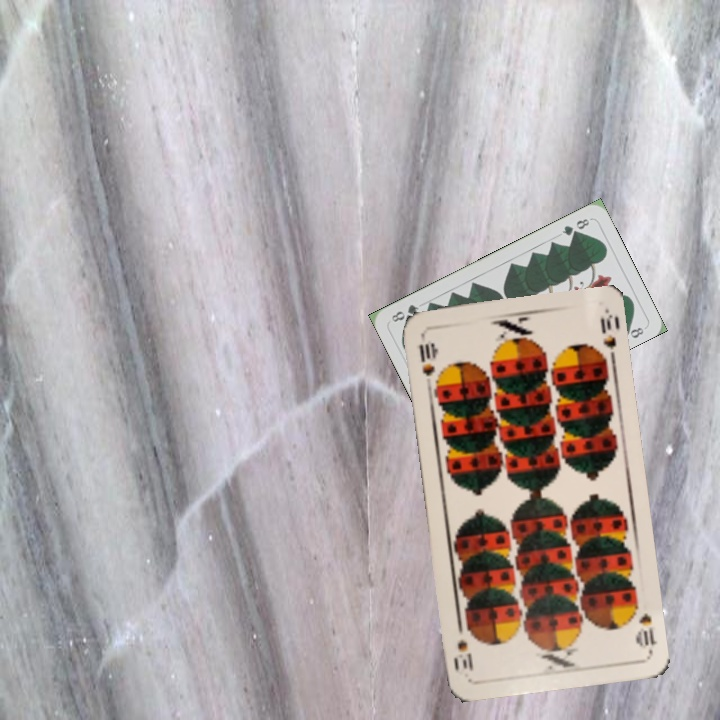G8: (558, 214, 592, 238)
S10: (415, 338, 441, 389), (633, 609, 660, 650)
